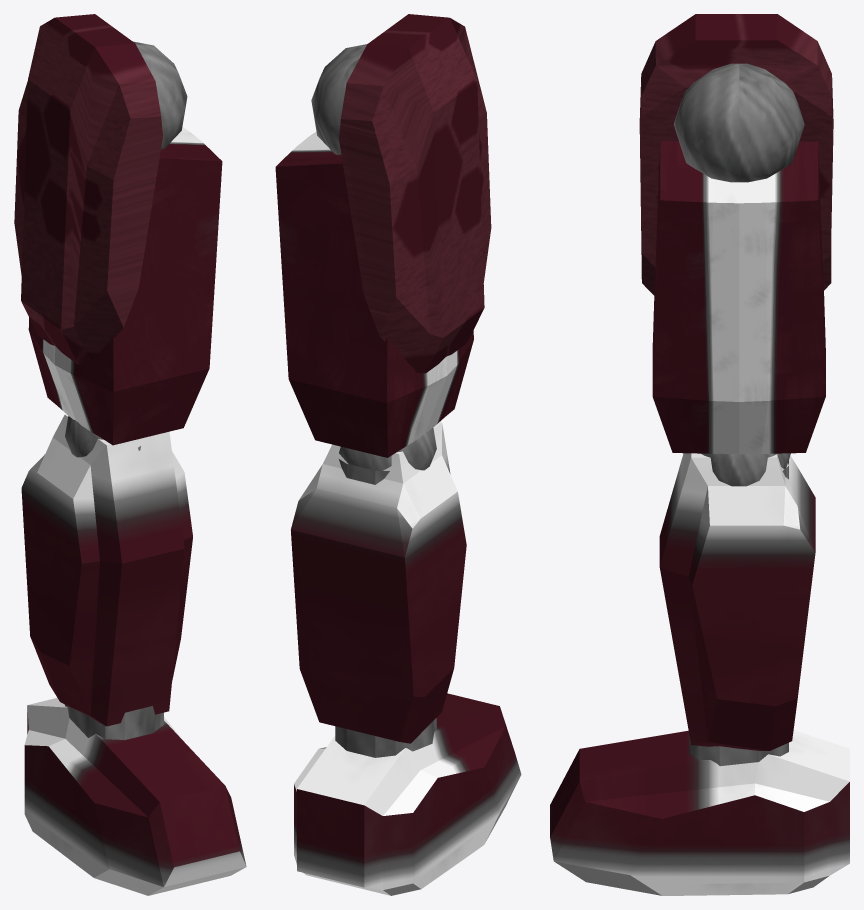
The model's file is Robot 8 R leg.fbx.
3 views of the same model, side by side, from view 1: azimuth 30°, elevation 25°; view 2: azimuth 150°, elevation 25°; view 3: azimuth 270°, elevation 25° (orthographic). The views are drawn at different scales.
Parts seen in each view (by area): view 1: Icosphere, Icosphere.003, Cube.023; view 2: Icosphere, Icosphere.003, Cube.023; view 3: Icosphere, Cube.023, Icosphere.003.
Part boxes in pixels (box(x1,y1,x2,y2)): Icosphere: box(14, 14, 222, 445); Icosphere.003: box(21, 414, 192, 739); Cube.023: box(24, 698, 246, 895); Icosphere: box(275, 14, 491, 457); Icosphere.003: box(291, 422, 466, 757); Cube.023: box(294, 693, 521, 895); Icosphere: box(639, 14, 833, 454); Cube.023: box(550, 730, 849, 895); Icosphere.003: box(659, 453, 815, 766).
Bounding box in the file's own units: 144 × 749 × 244.
